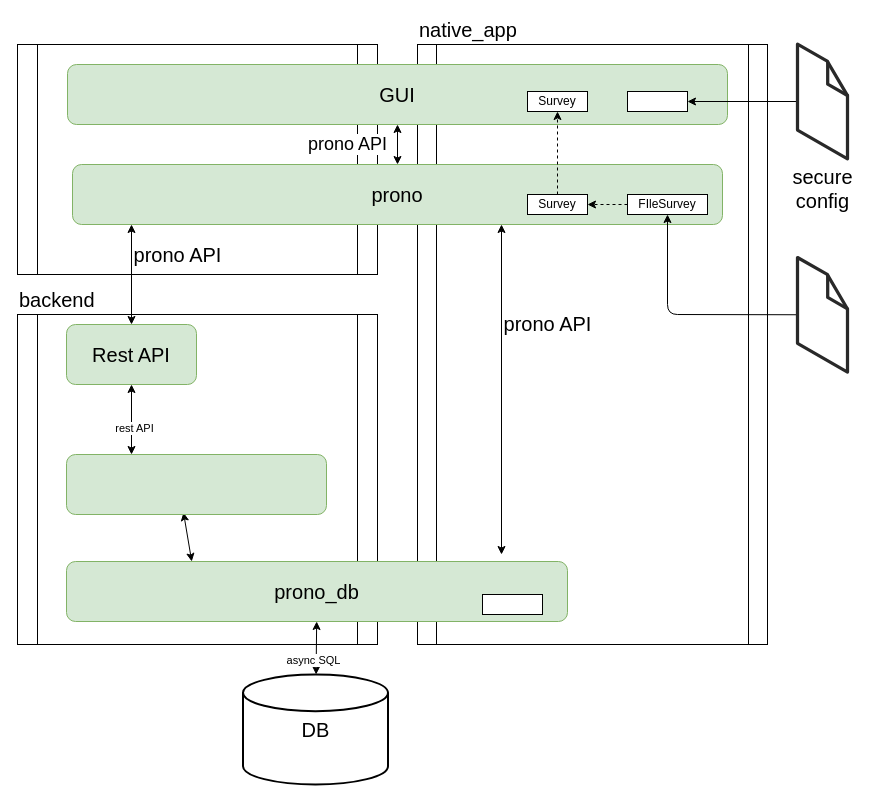
The diagram is 874 pixels wide and 802 high, and some of its shapes have lost their labels. Each missing label, with the centre of its shape:
"Answers" belongs at pixel 512 604.
"config" belongs at pixel 657 101.
"rest_server" belongs at pixel 196 484.
"surveys" belongs at pixel 822 314.
"web_app" belongs at pixel 197 159.
